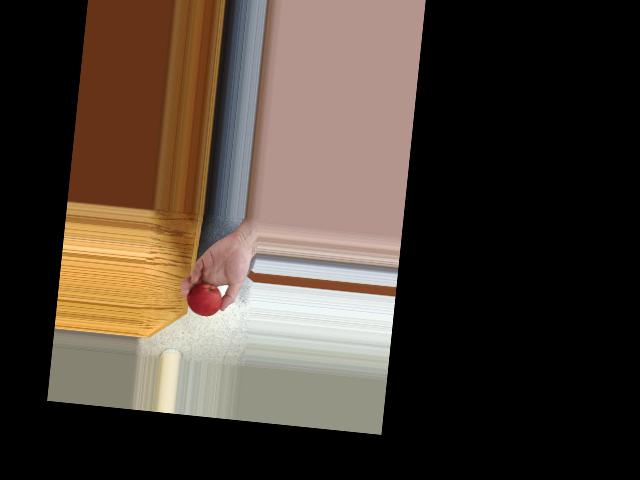apple: (185, 278, 225, 317)
